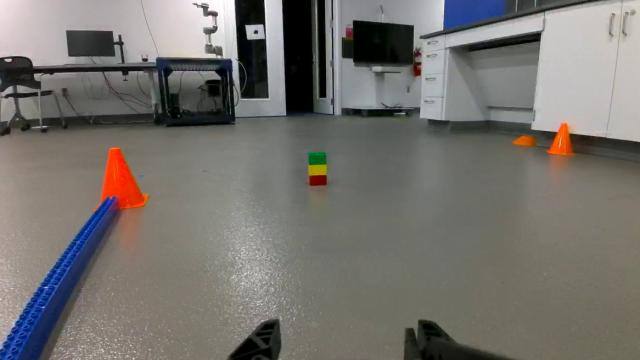lego: (304, 146, 336, 193)
